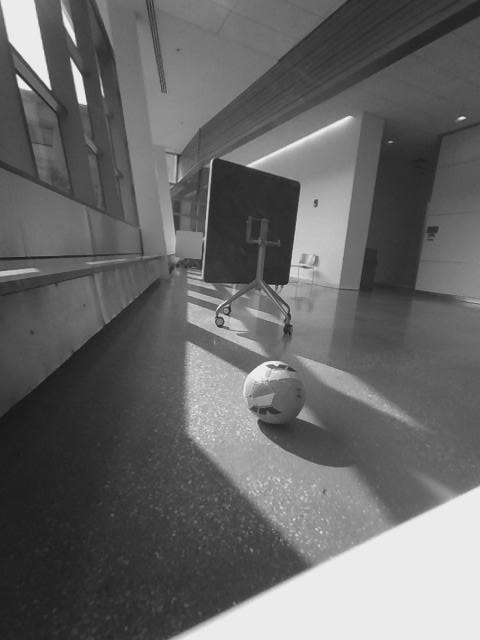ball: (243, 358, 310, 428)
